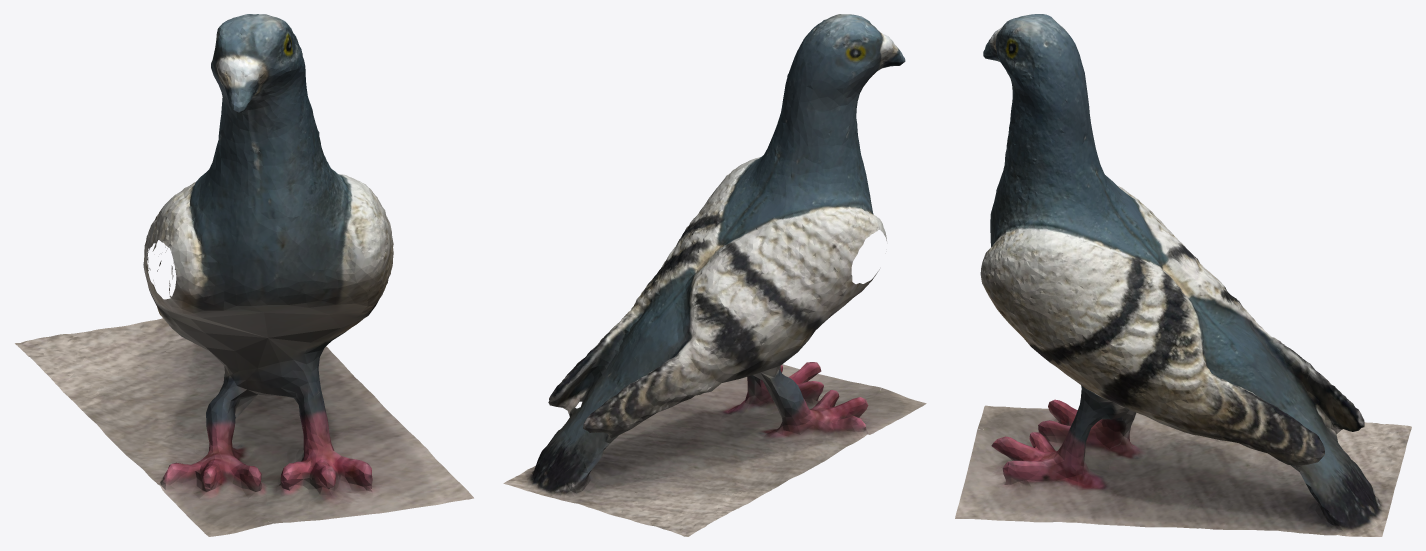
3 views of the same model, side by side, from view 1: azimuth 30°, elevation 25°; view 2: azimuth 150°, elevation 25°; view 3: azimuth 270°, elevation 25° (orthographic). The views are drawn at different scales.
Bounding box in the file's own units: 0.3952 × 0.6195 × 0.6026.
1 material, 1 textured.
